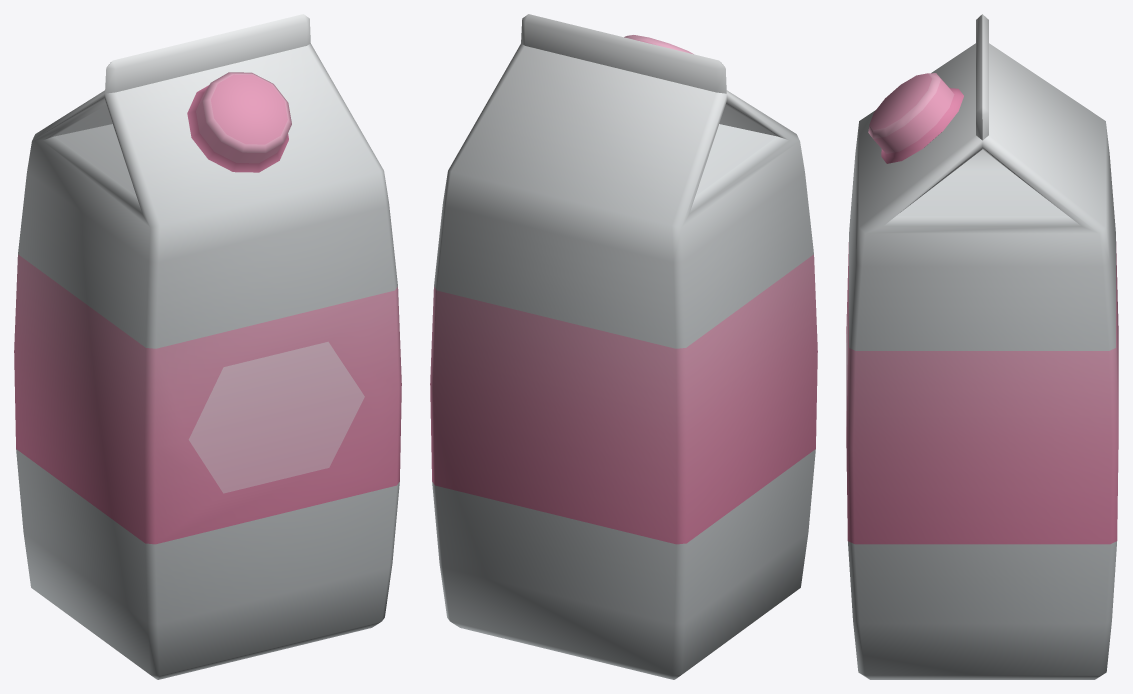
File: kefir_001.fbx
The picture shows the model from 3 angles, left to right: view 1: azimuth 30°, elevation 25°; view 2: azimuth 150°, elevation 25°; view 3: azimuth 270°, elevation 25°; orthographic projection.
Parts seen in each view (by area): view 1: kefir_001; view 2: kefir_001; view 3: kefir_001.
Boxes of the visible parts, x1,y1,x2,y2 form: kefir_001: (14, 14, 401, 679); kefir_001: (430, 14, 817, 679); kefir_001: (846, 14, 1118, 679).
Bounding box in the file's own units: 8.97 × 8.32 × 19.16.
